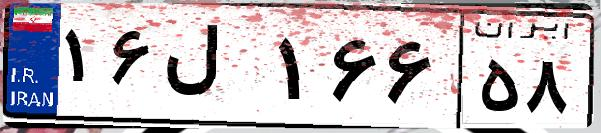1: (270, 28, 330, 110), (57, 26, 110, 100)
5: (475, 38, 525, 113)
6: (385, 28, 445, 110), (330, 28, 385, 110), (110, 28, 158, 98)
8: (525, 38, 570, 115)
ل: (158, 20, 270, 120)
